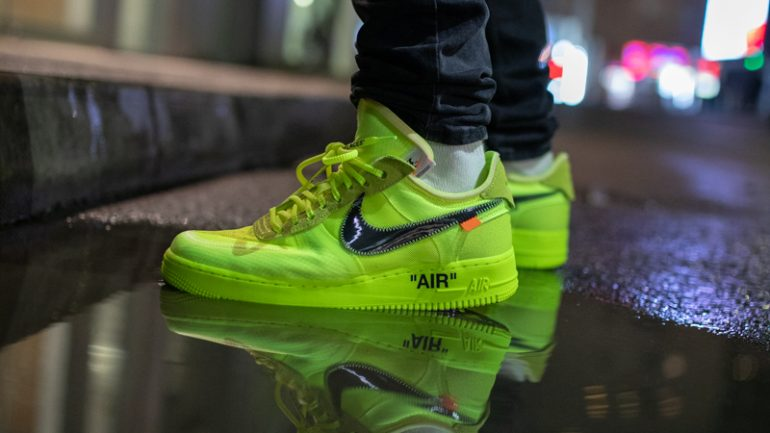Air Force One Volt: (156, 95, 524, 311)
